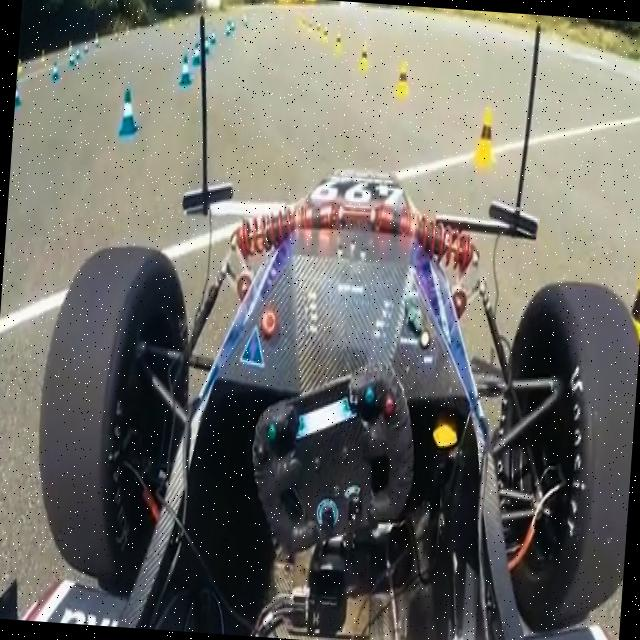blue_cone: (102, 77, 157, 162), (169, 41, 206, 102)
yellow_cone: (466, 95, 513, 190), (609, 240, 640, 373), (388, 53, 421, 124), (352, 34, 376, 77)
